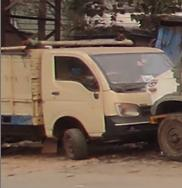Truck: (1, 37, 182, 165)
